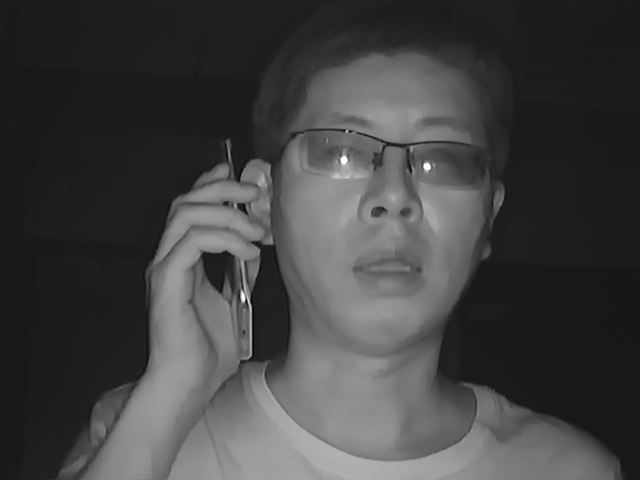hand: (138, 160, 258, 378)
